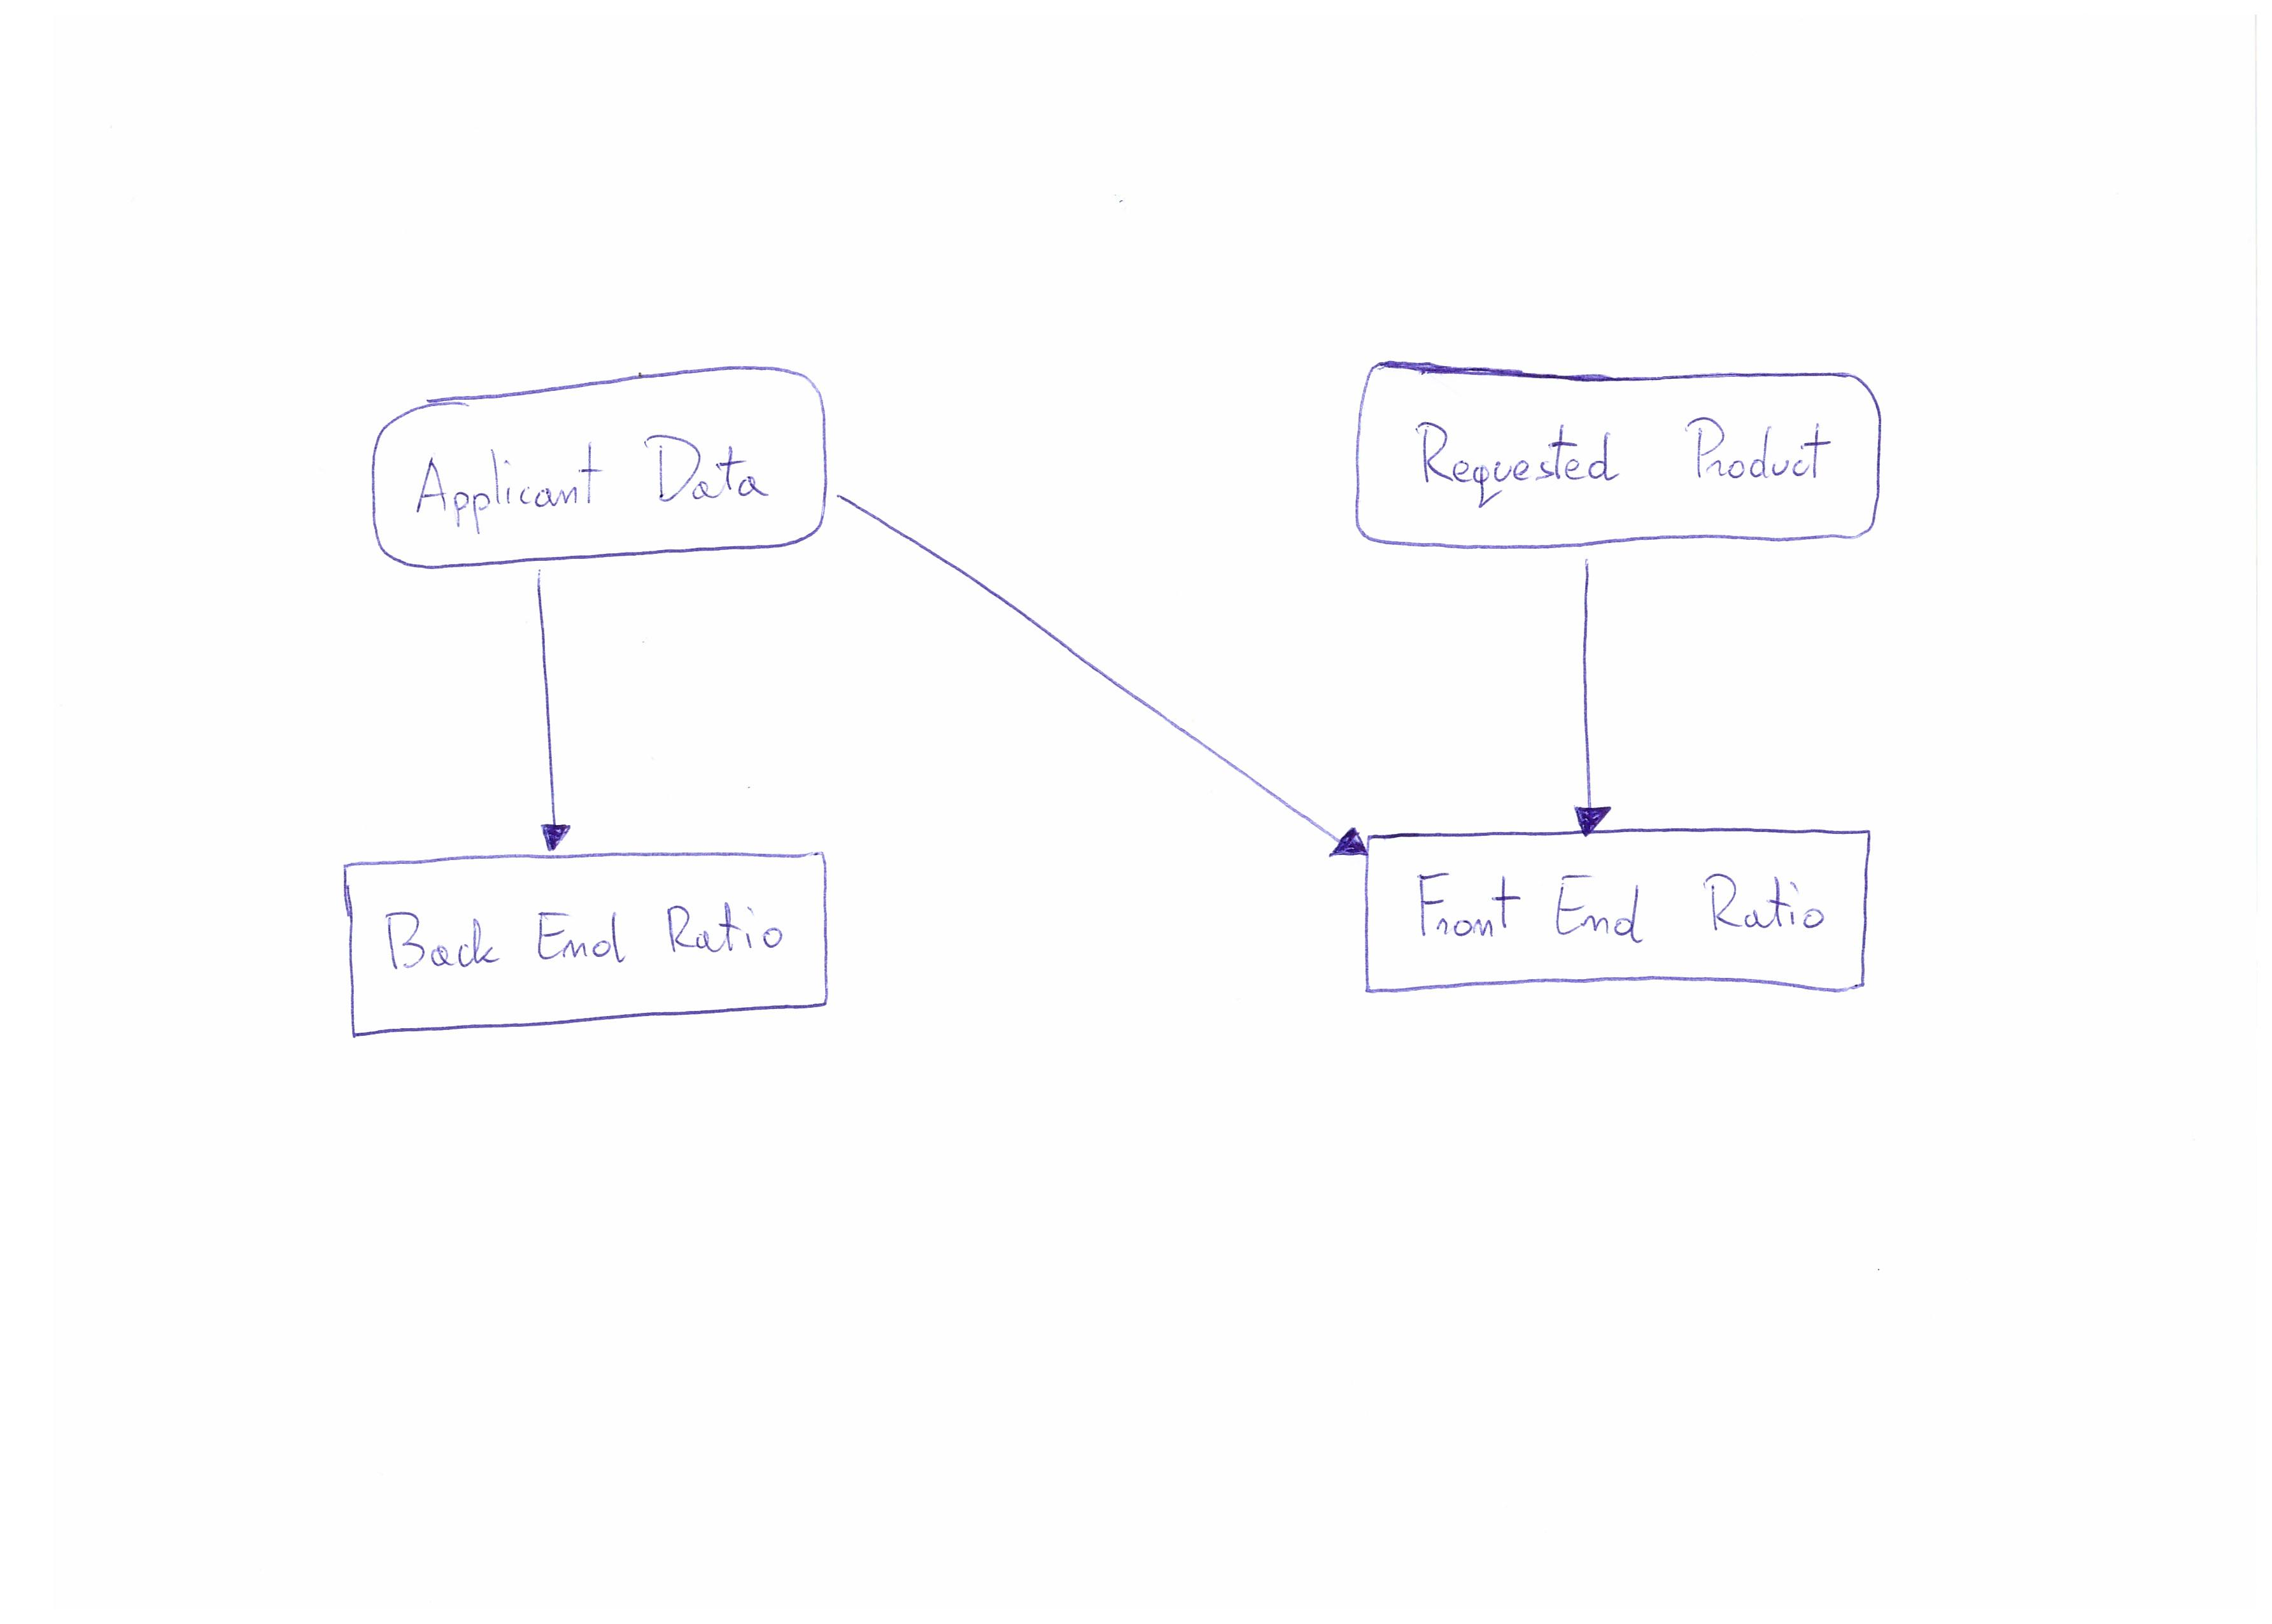arrow_information_requirement: (833, 482, 1372, 863), (1564, 550, 1618, 838), (527, 564, 576, 854)
node_decision: (330, 849, 865, 1051), (1364, 826, 1882, 1004)
node_input_data: (1344, 348, 1887, 557), (360, 357, 838, 571)
text: (1409, 402, 1847, 517), (1406, 854, 1841, 954), (406, 424, 785, 534), (373, 889, 796, 986)
